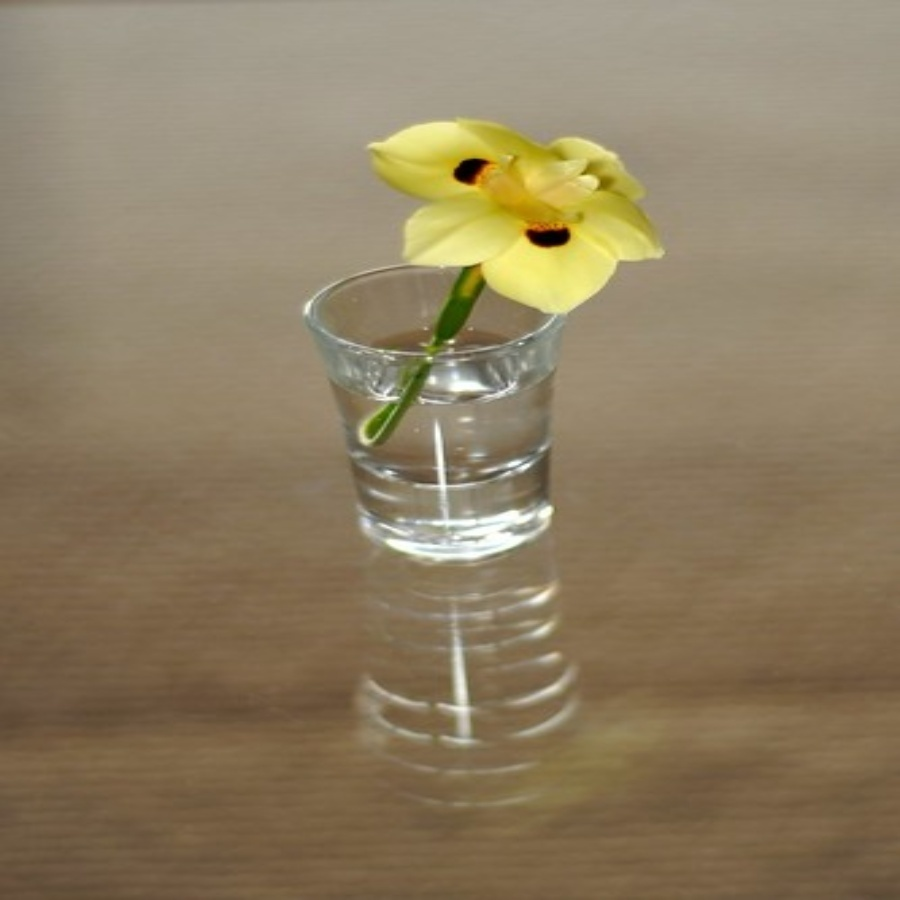whiskey: (301, 241, 572, 572)
